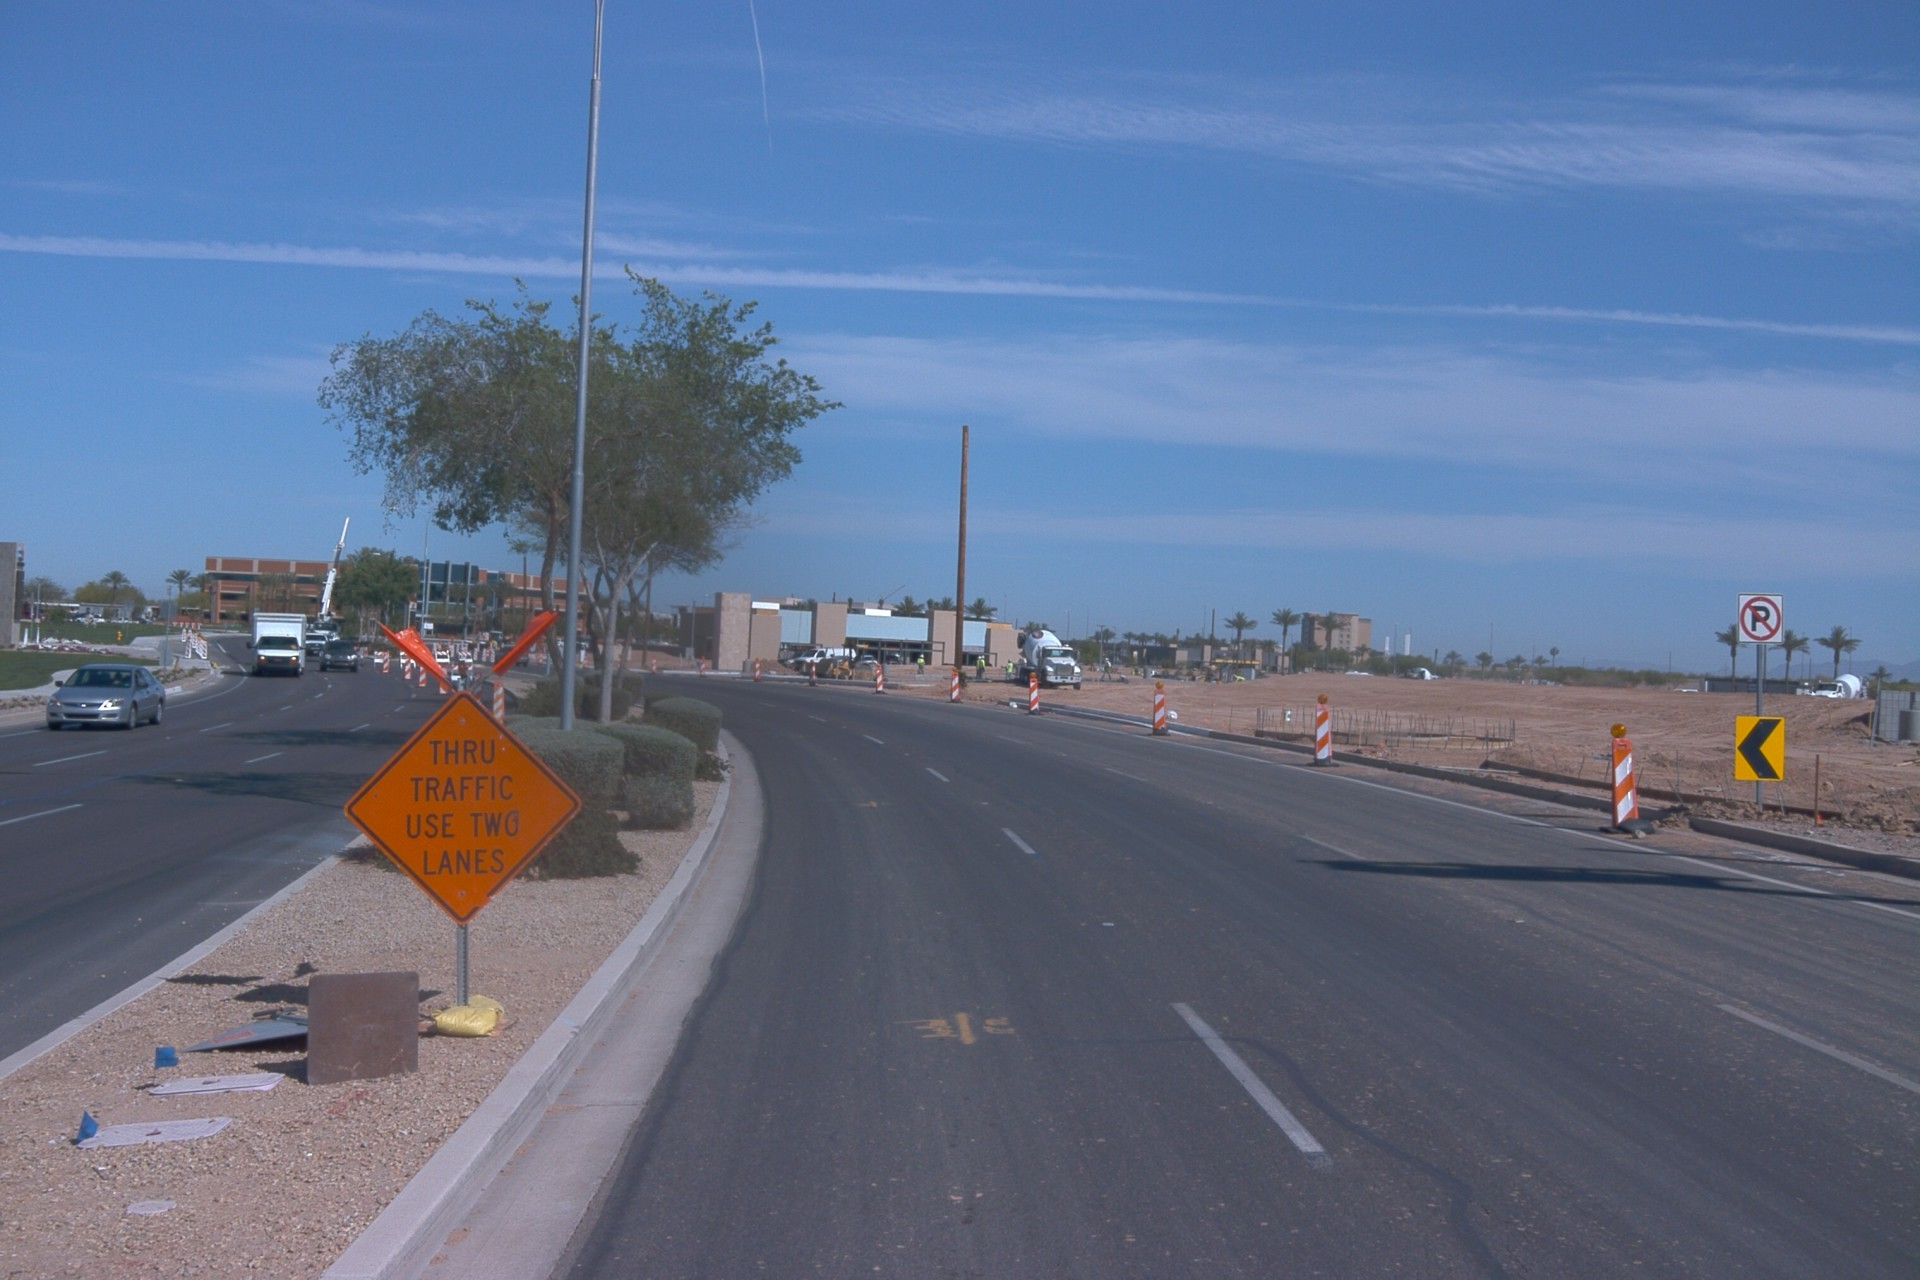TYPE_PEDESTRIAN: (1003, 659, 1014, 685), (977, 653, 986, 681), (1102, 661, 1113, 683), (974, 655, 982, 679), (916, 655, 925, 676)
TYPE_VEHICLE: (269, 512, 351, 674), (43, 664, 166, 729), (248, 612, 308, 677), (1811, 670, 1875, 703), (315, 639, 359, 673), (793, 649, 857, 664), (1189, 663, 1234, 684), (494, 644, 529, 669), (776, 652, 807, 672), (303, 632, 329, 652), (68, 614, 106, 627), (1344, 669, 1374, 679), (861, 652, 880, 666), (1672, 686, 1699, 695), (1139, 667, 1159, 679), (967, 658, 993, 667), (1017, 656, 1031, 669), (554, 636, 566, 648), (939, 663, 953, 666)
